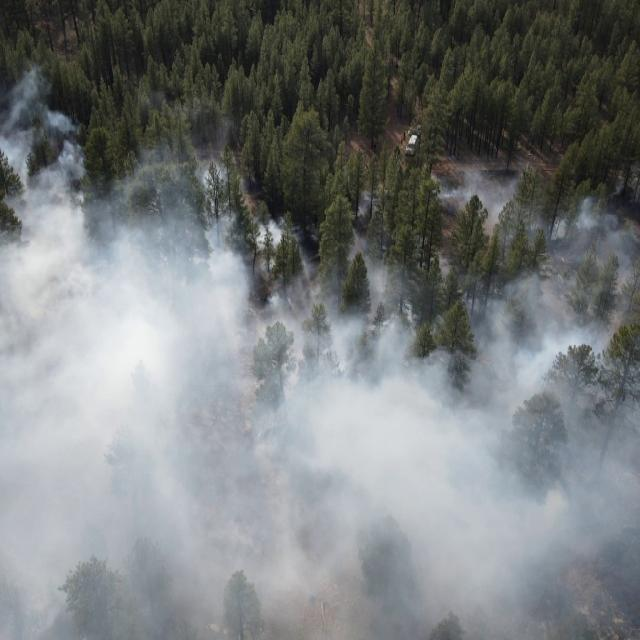smoke: (255, 219, 640, 640), (0, 77, 254, 640), (358, 157, 640, 219)
